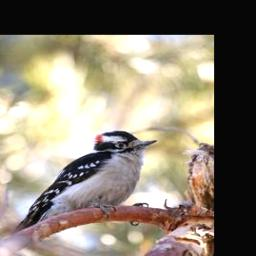Woodpecker: (13, 131, 157, 235)
